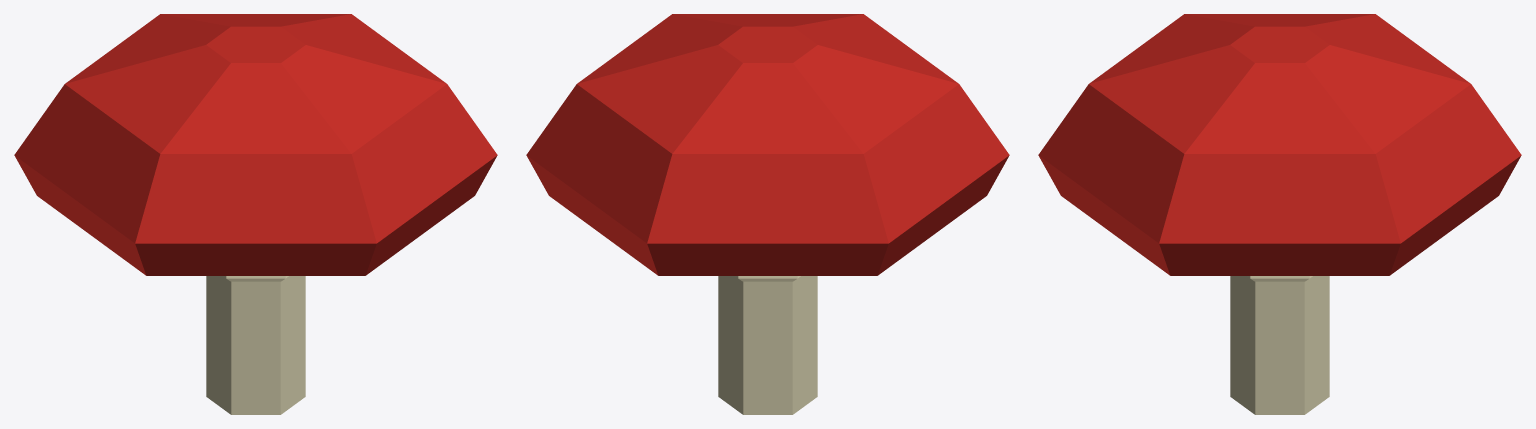
File: Mushroom.fbx
The picture shows the model from 3 angles, left to right: view 1: azimuth 30°, elevation 25°; view 2: azimuth 150°, elevation 25°; view 3: azimuth 270°, elevation 25°; orthographic projection.
Visible parts, largest first — view 1: Mushroom; view 2: Mushroom; view 3: Mushroom.
Boxes of the visible parts, x1=… form: Mushroom: x1=14, y1=14, x2=497, y2=414; Mushroom: x1=526, y1=14, x2=1009, y2=414; Mushroom: x1=1038, y1=14, x2=1521, y2=414.
Bounding box in the file's own units: 202 × 187 × 233.
